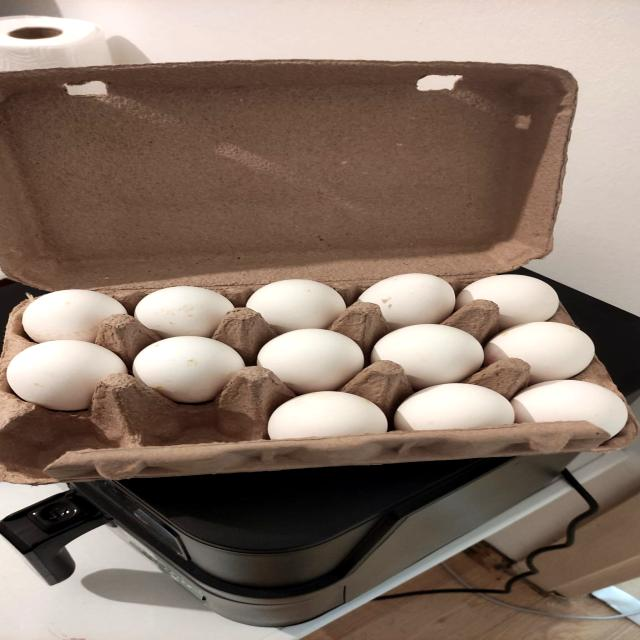egg: (4, 287, 629, 446), (235, 321, 389, 396), (113, 329, 253, 407), (6, 332, 133, 413), (338, 262, 474, 328), (215, 267, 355, 329), (367, 320, 492, 384)
